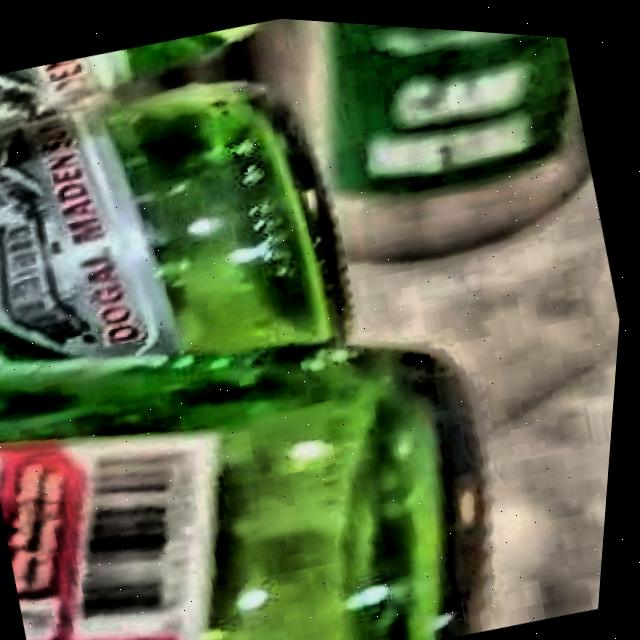glass: (0, 21, 494, 640)
